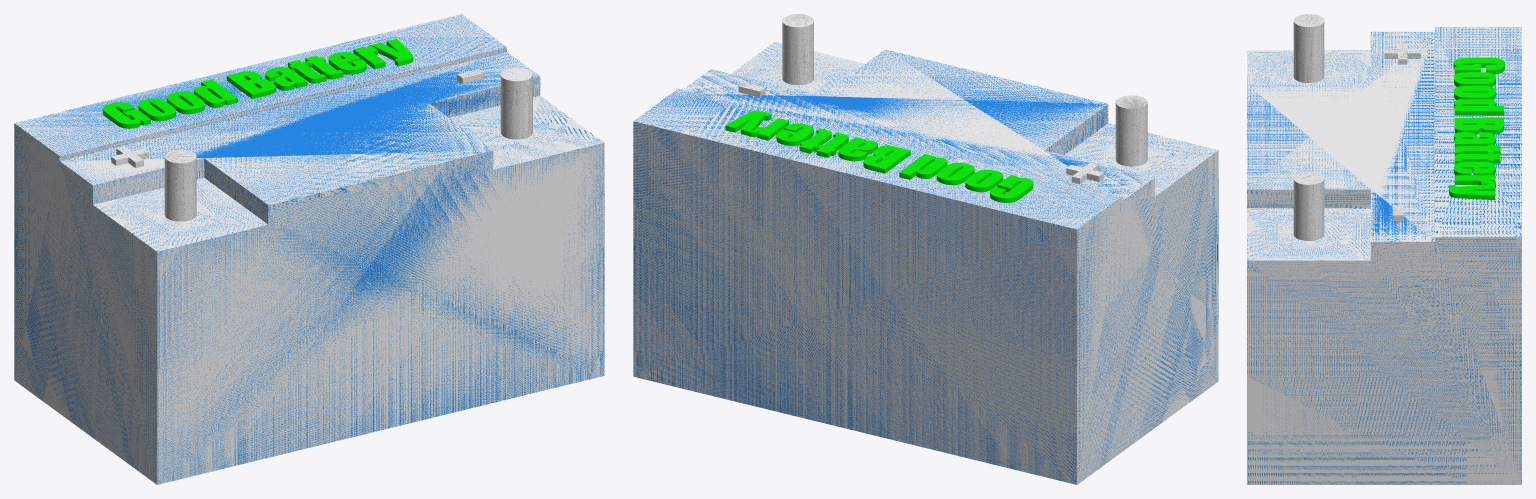
File: GoodBattery.fbx
3 renders of one model, left to right at view 1: azimuth 30°, elevation 25°; view 2: azimuth 150°, elevation 25°; view 3: azimuth 270°, elevation 25°, orthographic. The views are drawn at different scales.
Visible parts, largest first — view 1: Component1, Good_Battery_1_1; view 2: Component1, Good_Battery_1_1; view 3: Component1, Good_Battery_1_1.
Part boxes in pixels (bbox=[...]): Component1: bbox=[14, 14, 604, 484]; Good_Battery_1_1: bbox=[102, 39, 412, 128]; Component1: bbox=[633, 14, 1218, 484]; Good_Battery_1_1: bbox=[725, 110, 1033, 202]; Component1: bbox=[1247, 14, 1521, 484]; Good_Battery_1_1: bbox=[1449, 57, 1504, 199].
Bounding box in the file's own units: 24.12 × 15.01 × 13.33.
